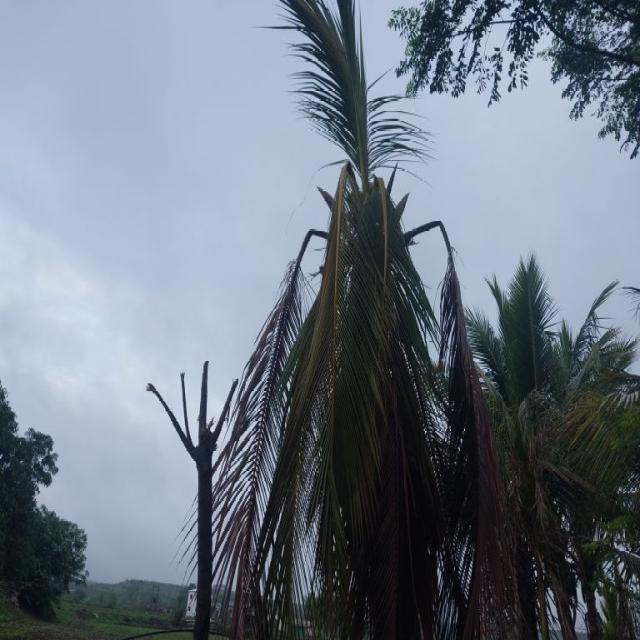bud root dropping: (214, 0, 512, 638)
